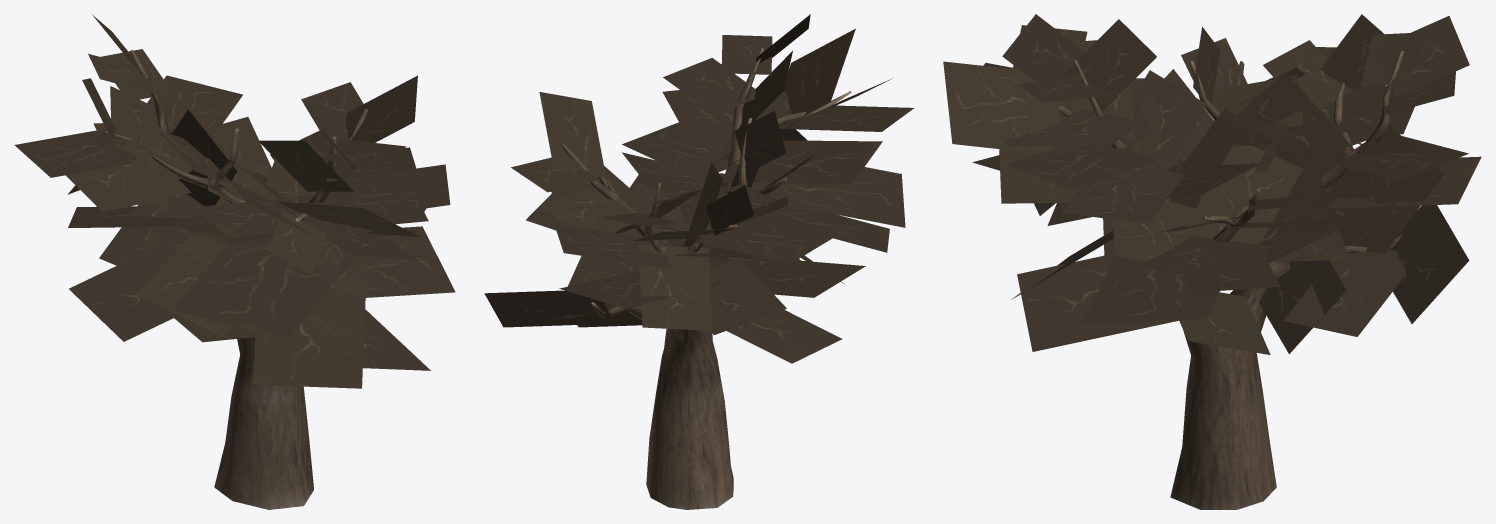
Rendered from tree_02.FBX.
The picture shows the model from 3 angles, left to right: view 1: azimuth 30°, elevation 25°; view 2: azimuth 150°, elevation 25°; view 3: azimuth 270°, elevation 25°; orthographic projection. The views are drawn at different scales.
Visible parts, largest first — view 1: tree_02; view 2: tree_02; view 3: tree_02.
Part boxes in pixels (bbox=[...]): tree_02: bbox=[14, 14, 455, 509]; tree_02: bbox=[484, 14, 913, 509]; tree_02: bbox=[943, 14, 1481, 509].
Size of the model in its own units: 137 by 161 by 170.
